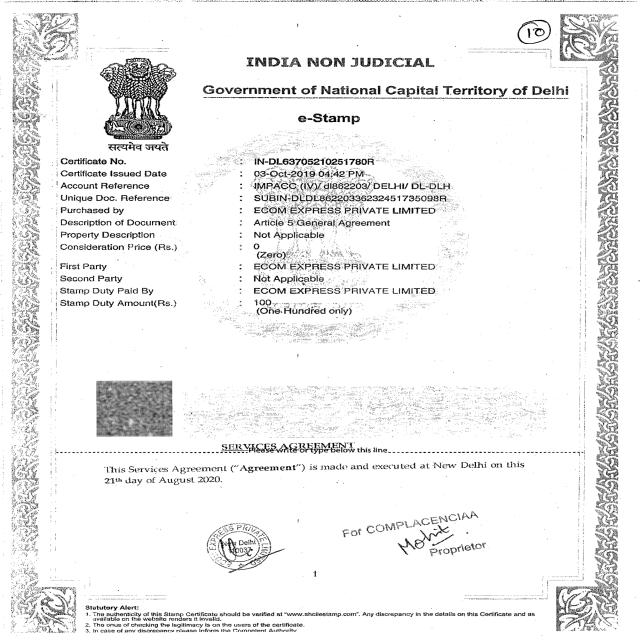page-number: (410, 0, 560, 61)
